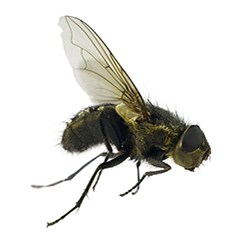house fly: (29, 14, 213, 233)
